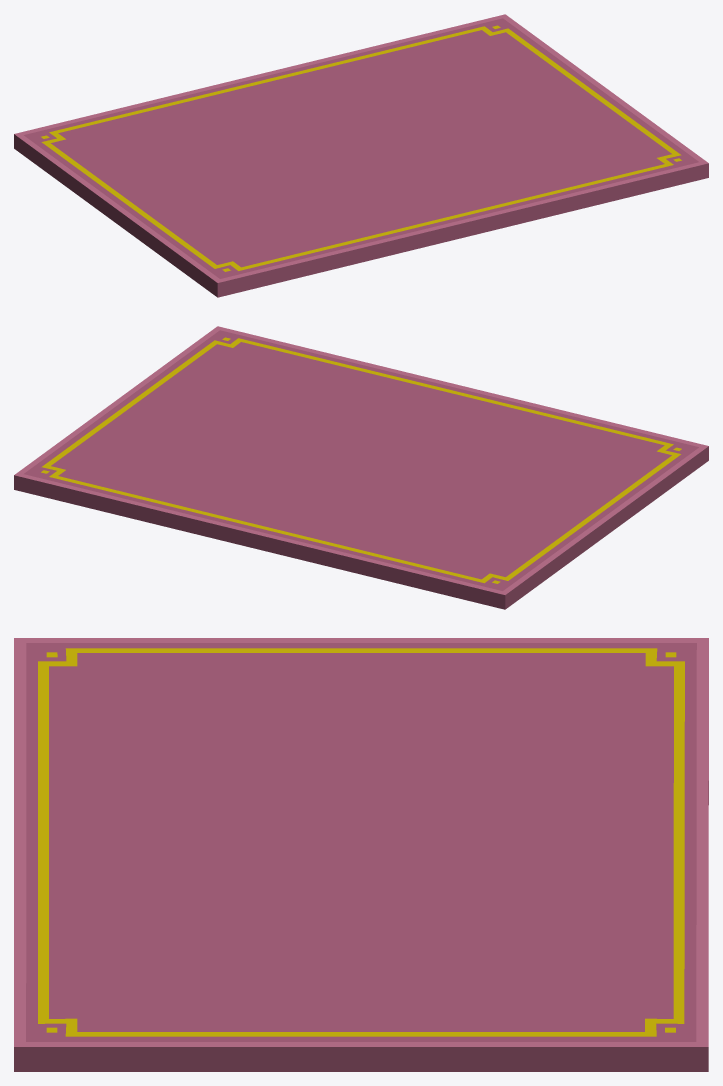
The model's file is HolidayCarpetRed.glb.
The picture shows the model from 3 angles, top to bottom: view 1: azimuth 30°, elevation 25°; view 2: azimuth 150°, elevation 25°; view 3: azimuth 270°, elevation 25°; orthographic projection. The views are drawn at different scales.
Visible parts, largest first — view 1: HolidayCarpetRed; view 2: HolidayCarpetRed; view 3: HolidayCarpetRed.
Part boxes in pixels (x1=…): HolidayCarpetRed: x1=14, y1=14, x2=708, y2=297; HolidayCarpetRed: x1=14, y1=326, x2=708, y2=609; HolidayCarpetRed: x1=14, y1=638, x2=708, y2=1071.
Bounding box in the file's own units: 7 × 0.1983 × 5.02.
